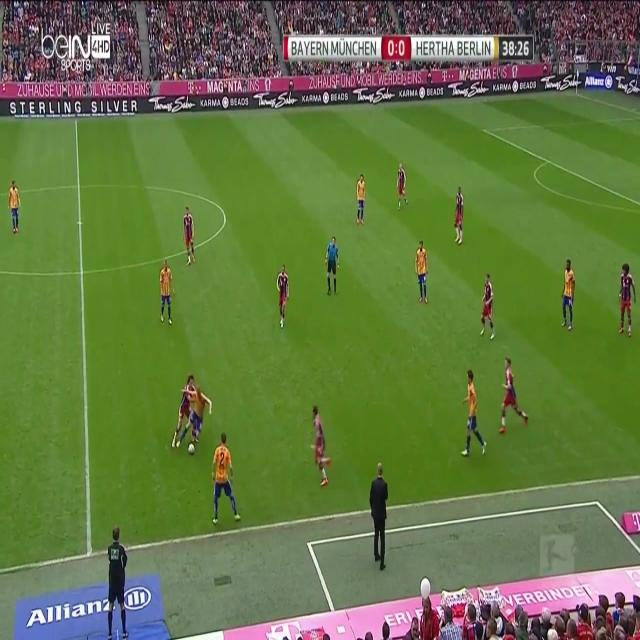Ball: (186, 438, 197, 461)
Player: (210, 432, 242, 528), (458, 368, 490, 461), (498, 355, 530, 442), (176, 384, 214, 452), (308, 401, 336, 491), (169, 372, 194, 452), (616, 261, 638, 339), (558, 257, 578, 333), (478, 271, 498, 341), (157, 255, 175, 328), (274, 261, 292, 331), (4, 176, 23, 238), (180, 206, 199, 268), (414, 238, 431, 306), (395, 161, 410, 213), (454, 184, 465, 250), (354, 173, 367, 227)
Referee: (323, 235, 341, 299)
